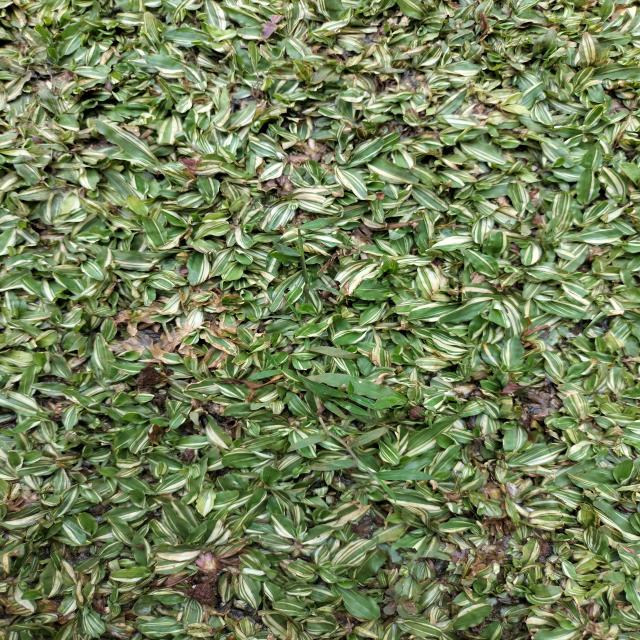buah daun: (382, 585, 422, 618)
rambat atas: (286, 416, 439, 506), (271, 205, 346, 283), (295, 366, 394, 420), (244, 349, 284, 383), (256, 299, 303, 327)
rambat bawah: (307, 368, 411, 411)
